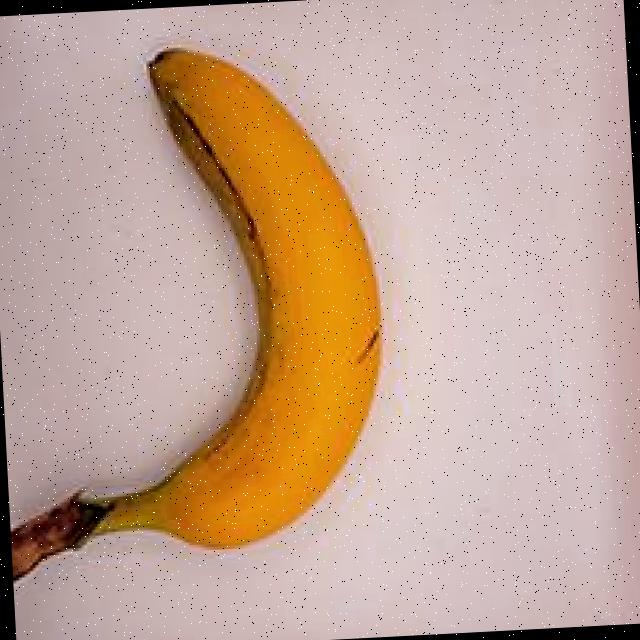Ripe: (0, 21, 421, 606)
